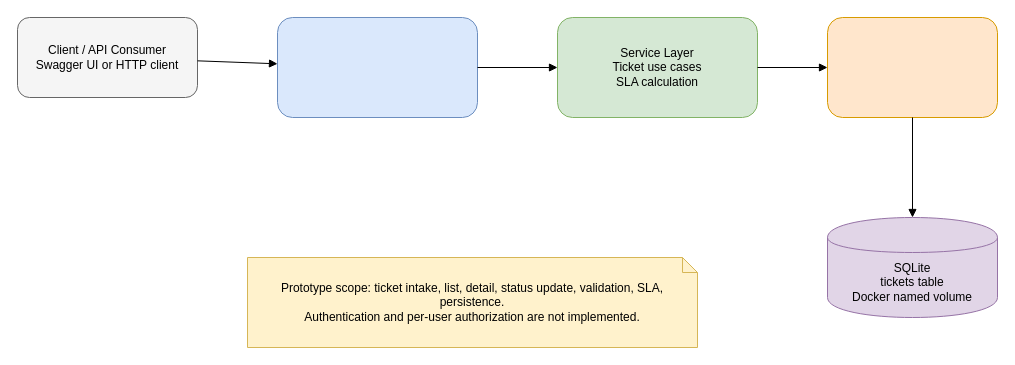
This 1015x365 diagram has some shape labels left out. The shapes that lost their labels are listed below. From the top down, each one's box as (x1, y1, x2, y2) in pixels, then its label:
(276, 16, 478, 118): FastAPI Router Request validation HTTP status codes
(826, 16, 998, 118): Repository Layer Parameterized SQL
